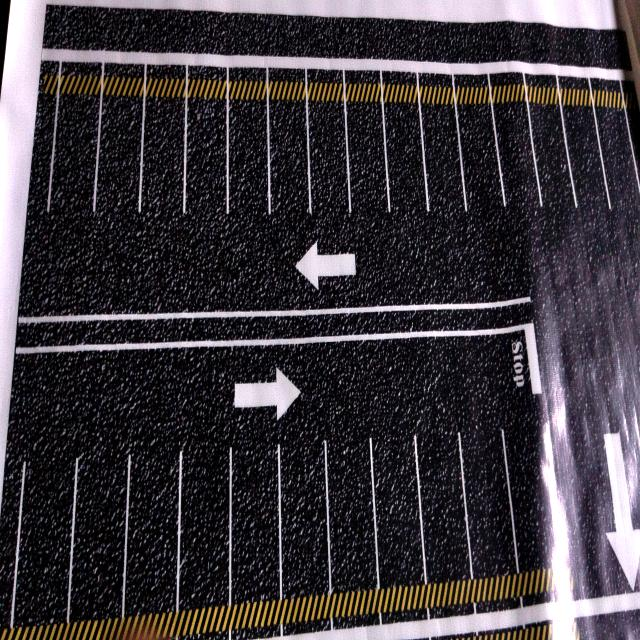slots: (15, 444, 75, 622), (71, 448, 129, 616), (125, 435, 178, 607), (505, 418, 561, 566), (179, 434, 228, 602), (462, 424, 516, 575), (232, 428, 279, 599), (281, 420, 328, 590), (417, 427, 469, 578), (374, 431, 424, 581), (328, 434, 375, 582), (51, 84, 100, 209), (95, 82, 141, 203), (594, 99, 640, 212), (142, 84, 185, 201), (456, 91, 502, 200), (186, 86, 226, 207), (309, 90, 350, 206), (494, 96, 539, 201), (270, 87, 310, 204), (346, 92, 387, 206), (563, 100, 608, 201), (530, 97, 573, 200), (421, 94, 462, 202), (385, 94, 425, 202), (230, 91, 267, 205)
